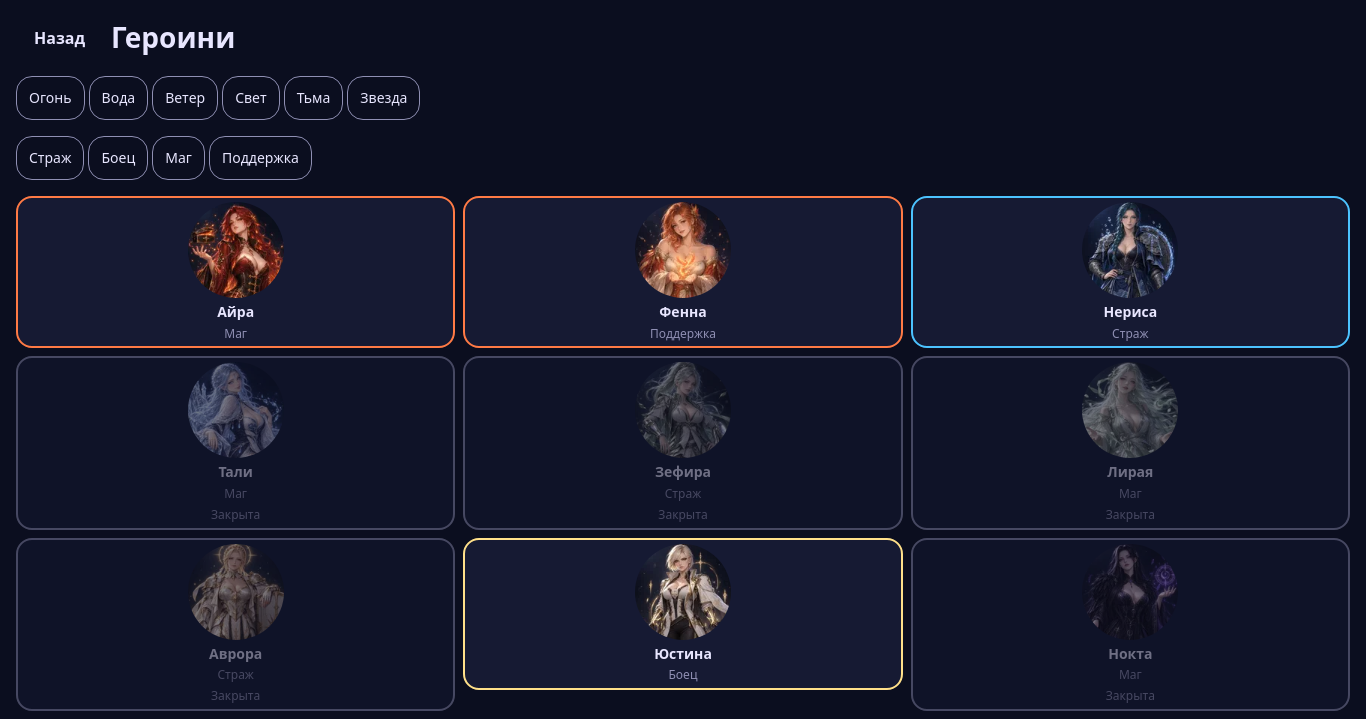
Test: сетка героинь › фильтры стихии и роли складываются, второй выбор в группе заменяет первый
The image size is (1366, 719).
Click the button "Огонь" at (50, 98), box [16,76,85,120]
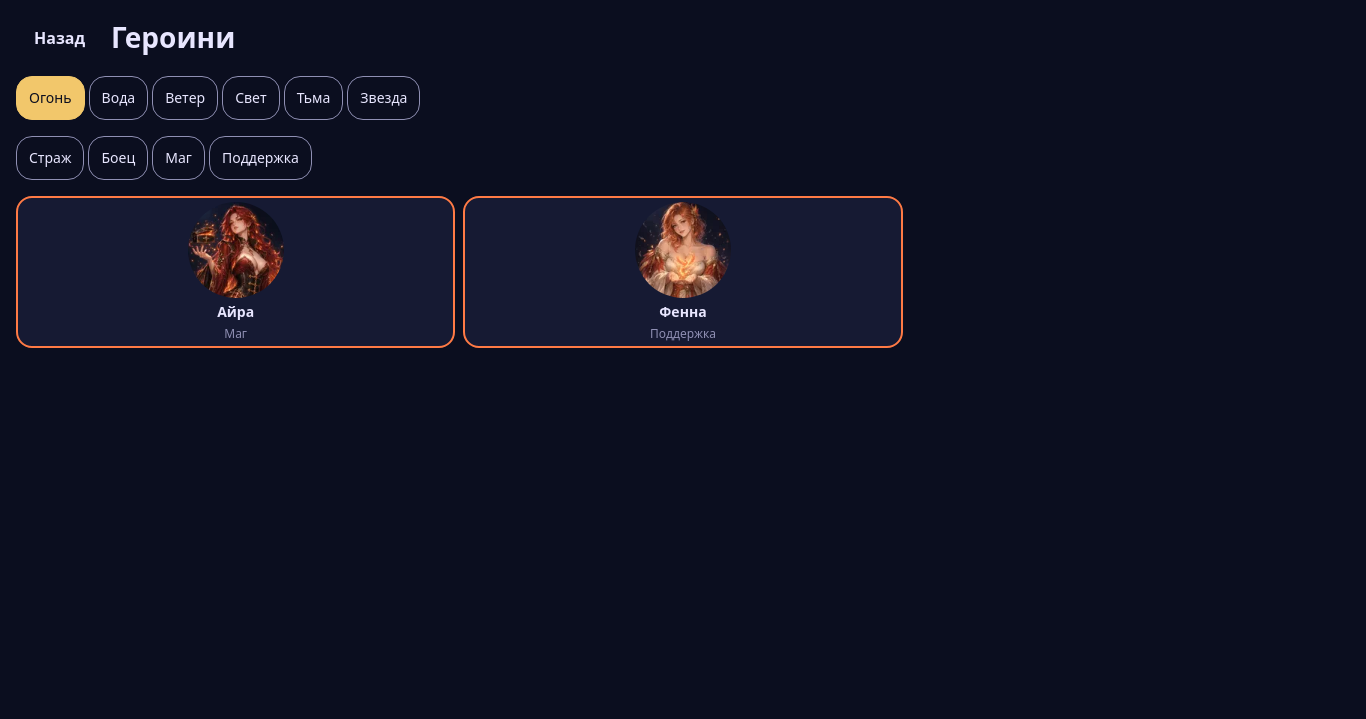
Click the button "Маг" at (179, 158), box [152,136,205,180]
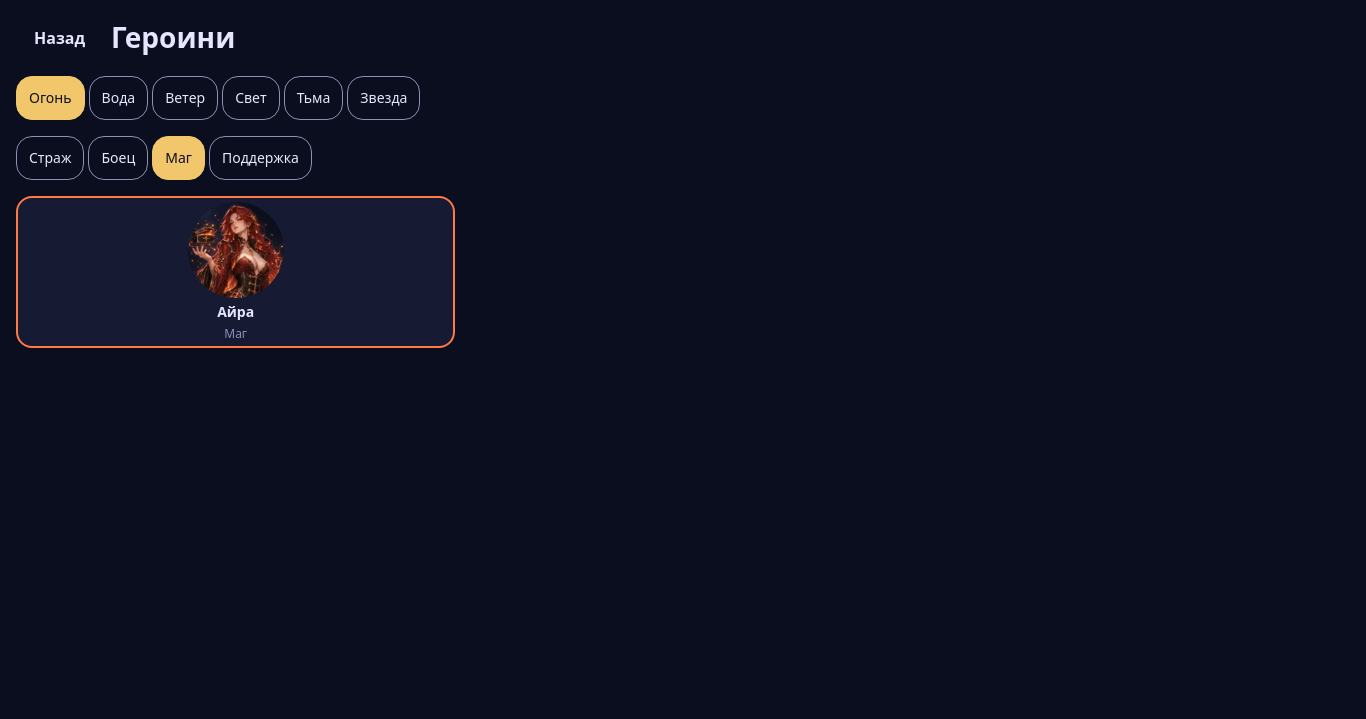
Expected: the button with test id "hero-tile-aira" is shown, [16,196,455,348]
Click the button "Вода" at (118, 98), box [89,76,148,120]
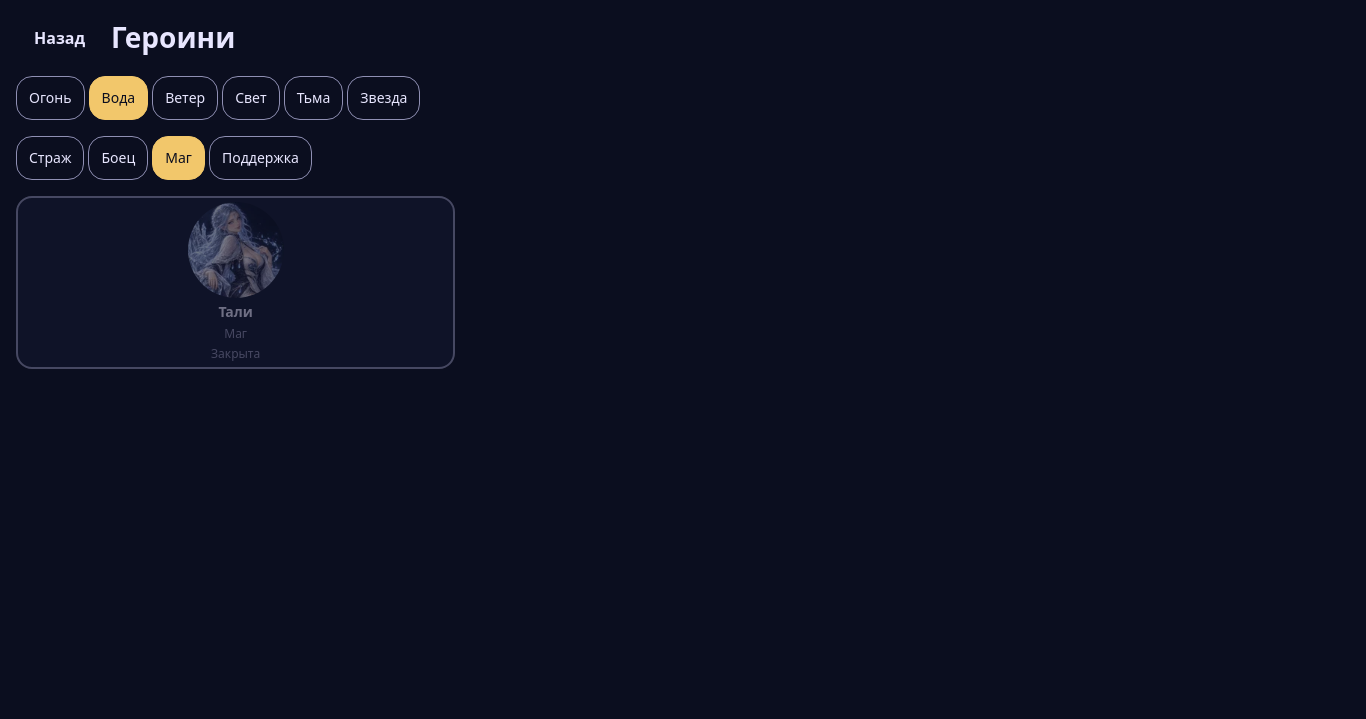
Result: the button with test id "hero-tile-tali" is shown at [16,196,455,369]
